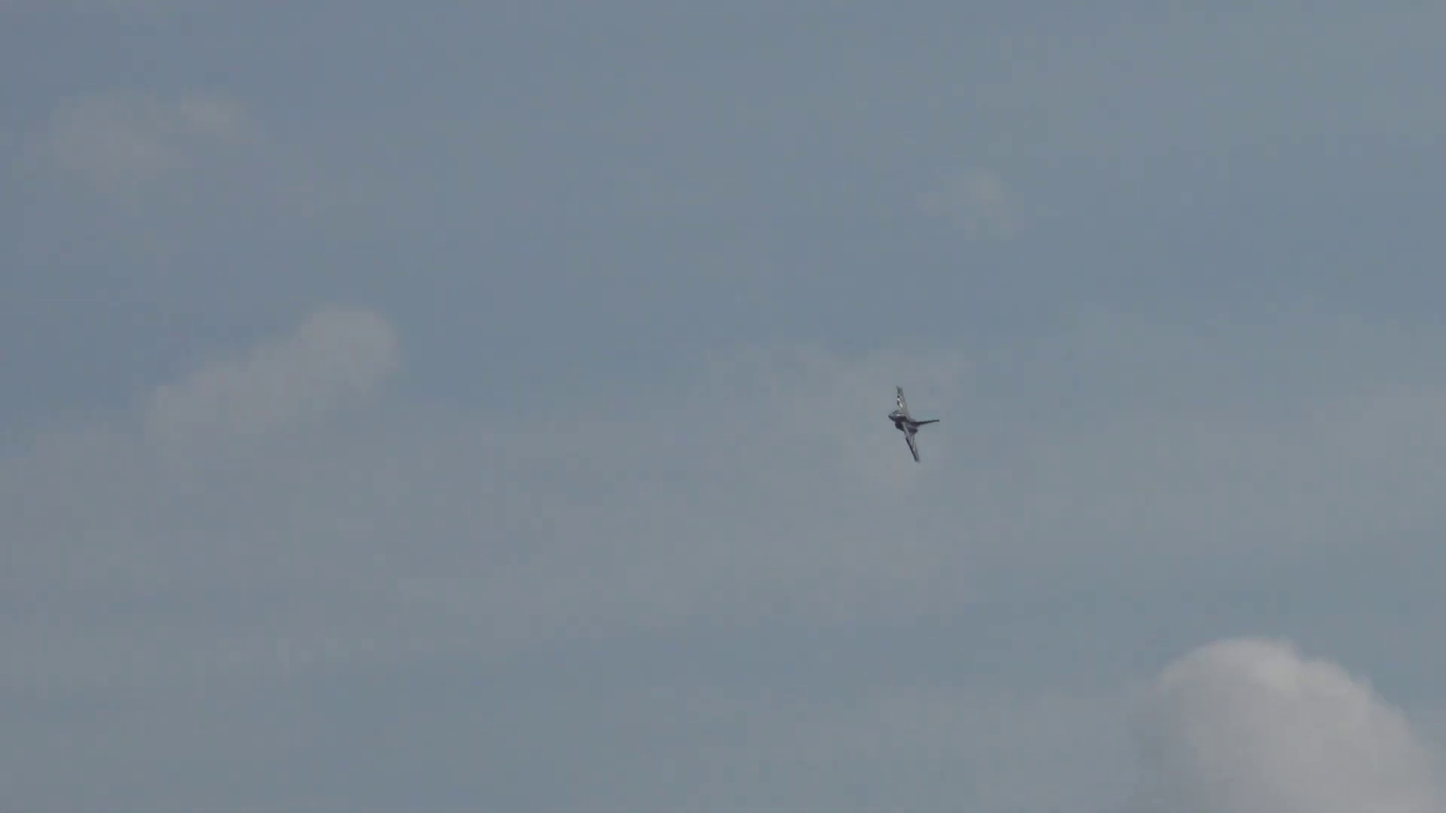Rafale: (886, 384, 942, 466)
